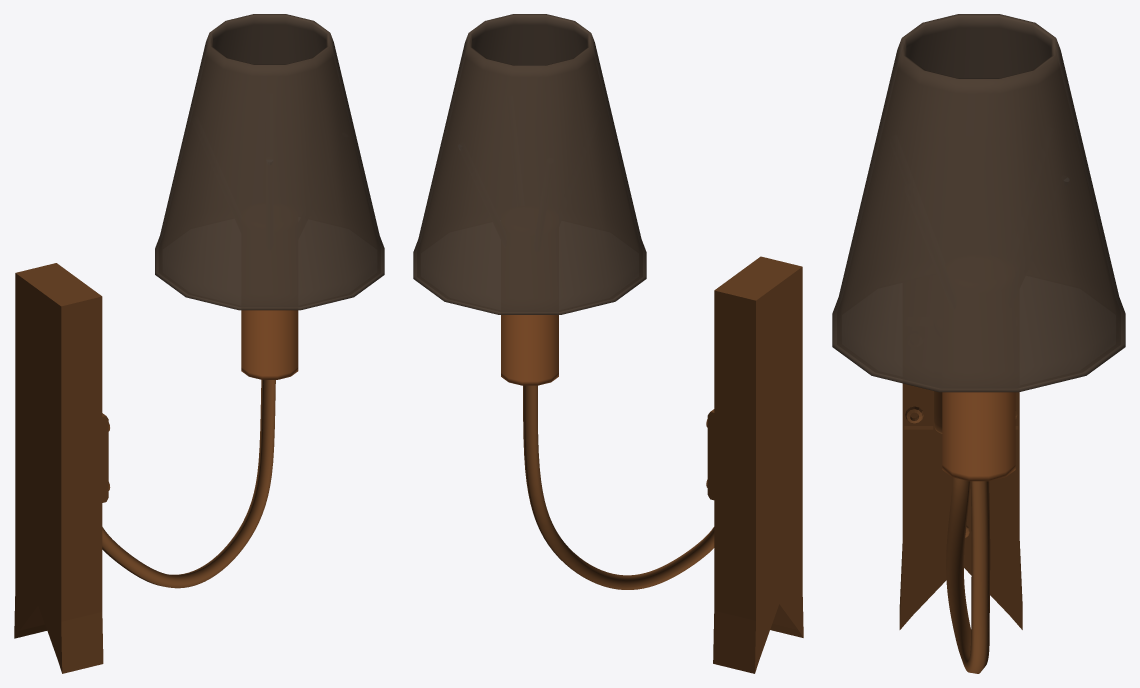
Rendered from wallamp.FBX.
The picture shows the model from 3 angles, left to right: view 1: azimuth 30°, elevation 25°; view 2: azimuth 150°, elevation 25°; view 3: azimuth 270°, elevation 25°; orthographic projection. The views are drawn at different scales.
Visible parts, largest first — view 1: Wall Lamp; view 2: Wall Lamp; view 3: Wall Lamp.
Part boxes in pixels (box(x1,y1,x2,y2)): Wall Lamp: box(14, 14, 384, 673); Wall Lamp: box(413, 14, 803, 673); Wall Lamp: box(832, 14, 1125, 673).
Bounding box in the file's own units: 122 × 190 × 71.62.
